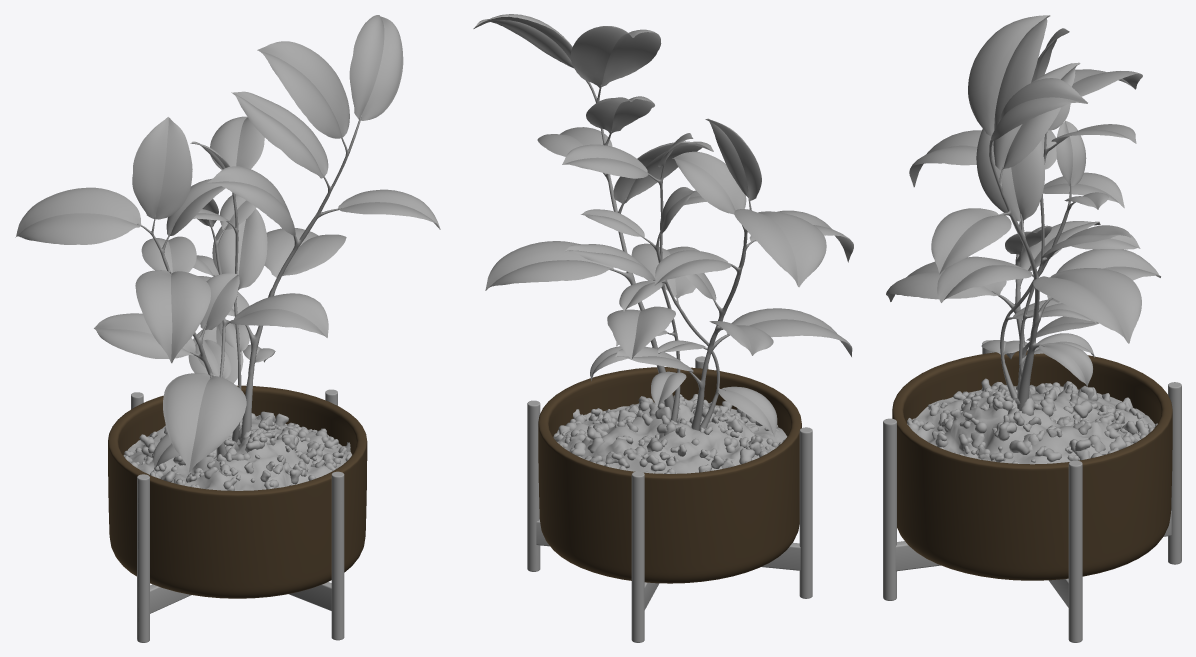
File: plant_fbx.FBX
3 views of the same model, side by side, from view 1: azimuth 30°, elevation 25°; view 2: azimuth 150°, elevation 25°; view 3: azimuth 270°, elevation 25° (orthographic). The views are drawn at different scales.
Visible parts, largest first — view 1: Circle, Circle_001, Mball_207, Plane_008, Plane_002, Circle_003, Plane_022, Plane_003, Plane_005, Plane_023, Plane_001, Plane_025 (+13 smaller); view 2: Circle, Circle_001, Mball_207, Circle_003, Plane_001, Plane_022, Plane_002, Plane_016, Plane_004, Plane_008, Plane_015, Plane_003 (+16 smaller); view 3: Circle, Mball_207, Circle_001, Circle_003, Plane_022, Plane_016, Plane_001, Plane_021, Plane_024, Plane_023, Plane_025, Plane_017 (+18 smaller).
Boxes of the visible parts, x1=… form: Circle: x1=108, y1=385, x2=367, y2=598; Circle_001: x1=131, y1=389, x2=344, y2=642; Mball_207: x1=124, y1=411, x2=351, y2=490; Plane_008: x1=163, y1=373, x2=246, y2=472; Plane_002: x1=15, y1=187, x2=141, y2=244; Circle_003: x1=123, y1=418, x2=351, y2=490; Plane_022: x1=257, y1=41, x2=349, y2=139; Plane_003: x1=132, y1=117, x2=192, y2=219; Plane_005: x1=135, y1=270, x2=210, y2=363; Plane_023: x1=349, y1=15, x2=403, y2=120; Plane_001: x1=137, y1=115, x2=361, y2=457; Plane_025: x1=231, y1=91, x2=328, y2=178; Circle: x1=538, y1=367, x2=801, y2=583; Circle_001: x1=527, y1=356, x2=812, y2=642; Mball_207: x1=553, y1=394, x2=784, y2=473; Circle_003: x1=556, y1=402, x2=787, y2=473; Plane_001: x1=585, y1=80, x2=755, y2=430; Plane_022: x1=570, y1=26, x2=661, y2=87; Plane_002: x1=734, y1=209, x2=826, y2=287; Plane_016: x1=485, y1=241, x2=613, y2=290; Plane_004: x1=672, y1=151, x2=746, y2=214; Plane_008: x1=726, y1=308, x2=852, y2=356; Plane_015: x1=607, y1=306, x2=675, y2=359; Plane_003: x1=705, y1=118, x2=761, y2=200; Circle: x1=892, y1=350, x2=1172, y2=580; Mball_207: x1=907, y1=378, x2=1157, y2=463; Circle_001: x1=883, y1=340, x2=1181, y2=642; Circle_003: x1=912, y1=385, x2=1155, y2=464; Plane_022: x1=968, y1=15, x2=1050, y2=135; Plane_016: x1=1033, y1=268, x2=1141, y2=343; Plane_001: x1=989, y1=131, x2=1075, y2=410; Plane_021: x1=976, y1=128, x2=1044, y2=221; Plane_024: x1=931, y1=208, x2=1011, y2=274; Plane_023: x1=991, y1=78, x2=1087, y2=140; Plane_025: x1=993, y1=62, x2=1080, y2=170; Plane_017: x1=937, y1=256, x2=1032, y2=302.
Size of the model in its own units: 557 by 820 by 380.
